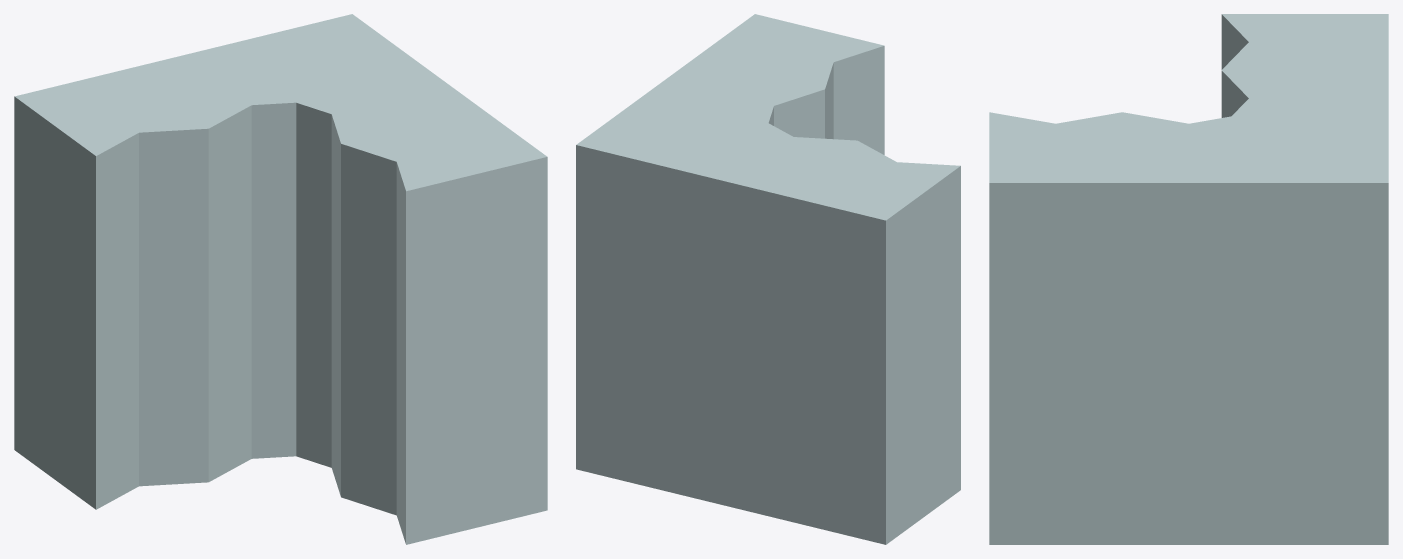
The model's file is cliff_cornerInnerLarge_stone.gltf.
3 views of the same model, side by side, from view 1: azimuth 30°, elevation 25°; view 2: azimuth 150°, elevation 25°; view 3: azimuth 270°, elevation 25° (orthographic). The views are drawn at different scales.
Parts seen in each view (by area): view 1: cliff_cornerInnerLarge_stone; view 2: cliff_cornerInnerLarge_stone; view 3: cliff_cornerInnerLarge_stone.
Part boxes in pixels (x1,y1,x2,y2): cliff_cornerInnerLarge_stone: (14, 14, 547, 544); cliff_cornerInnerLarge_stone: (576, 14, 960, 544); cliff_cornerInnerLarge_stone: (989, 14, 1388, 544).
Bounding box in the file's own units: 1 × 1 × 1.
